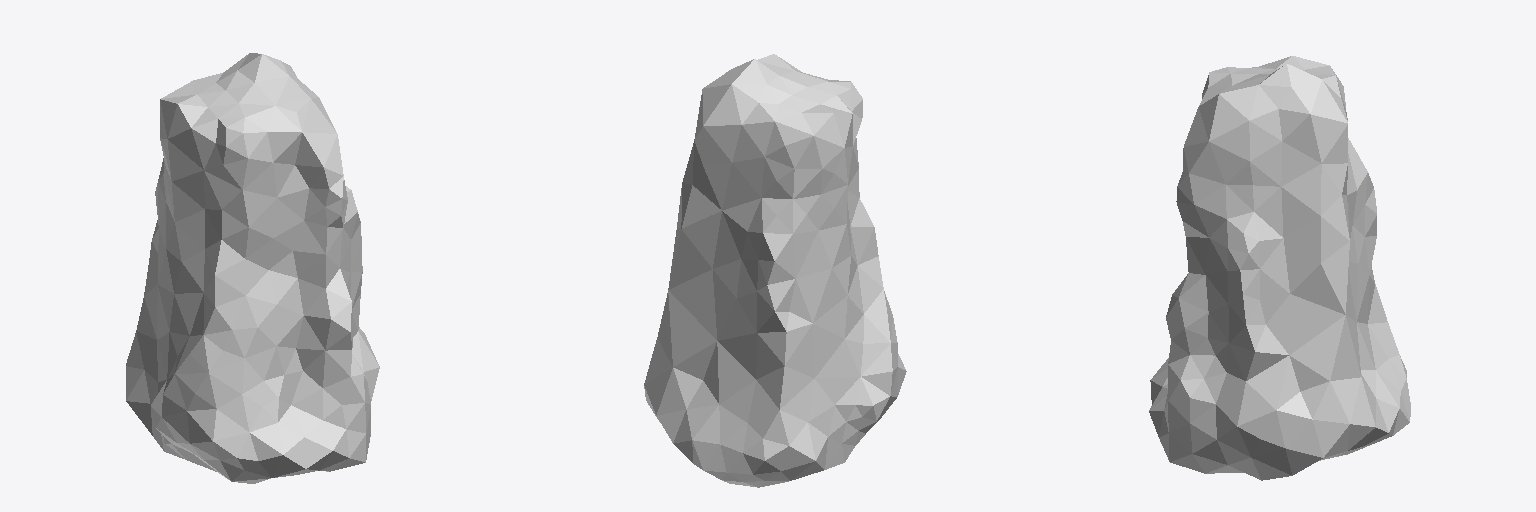
Rendered from RockSet05F.obj.
3 renders of one model, left to right at view 1: azimuth 30°, elevation 25°; view 2: azimuth 150°, elevation 25°; view 3: azimuth 270°, elevation 25°, orthographic.
Parts seen in each view (by area): view 1: RockSet05F; view 2: RockSet05F; view 3: RockSet05F.
Part boxes in pixels (x1,y1,x2,y2): RockSet05F: (126, 53, 379, 483); RockSet05F: (644, 54, 906, 487); RockSet05F: (1149, 56, 1410, 480).
Size of the model in its own units: 6.83 by 11.83 by 7.13.